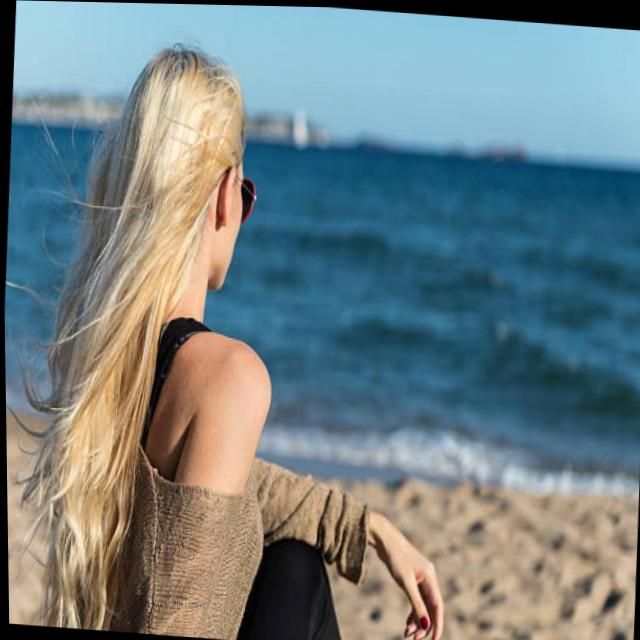no helmet: (97, 26, 259, 337)
